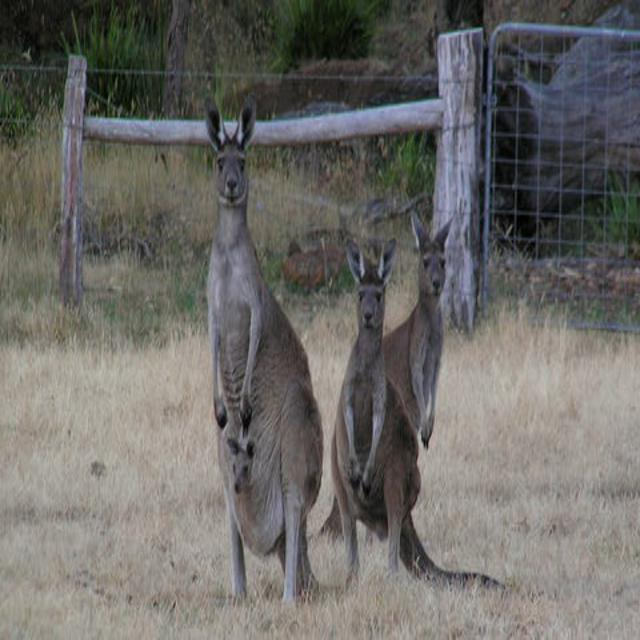kangaroo: (190, 99, 319, 591), (326, 240, 430, 596), (381, 215, 457, 435)
